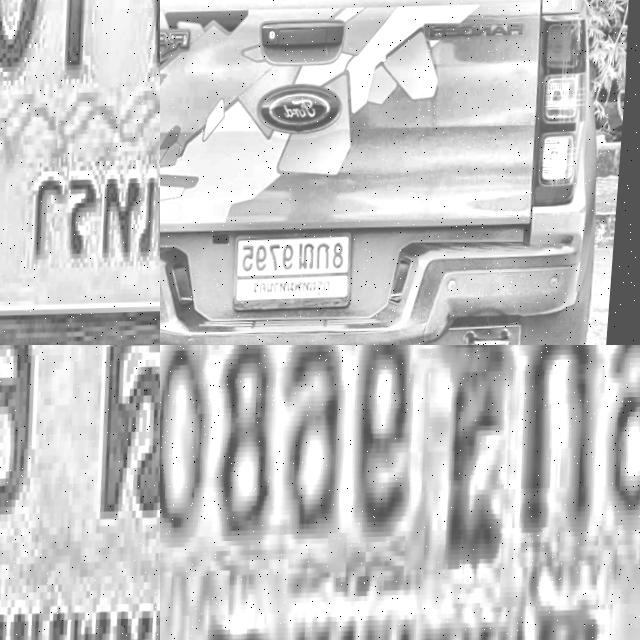license-plate: (160, 345, 640, 640), (0, 0, 160, 345), (0, 345, 160, 640), (237, 230, 360, 308)
